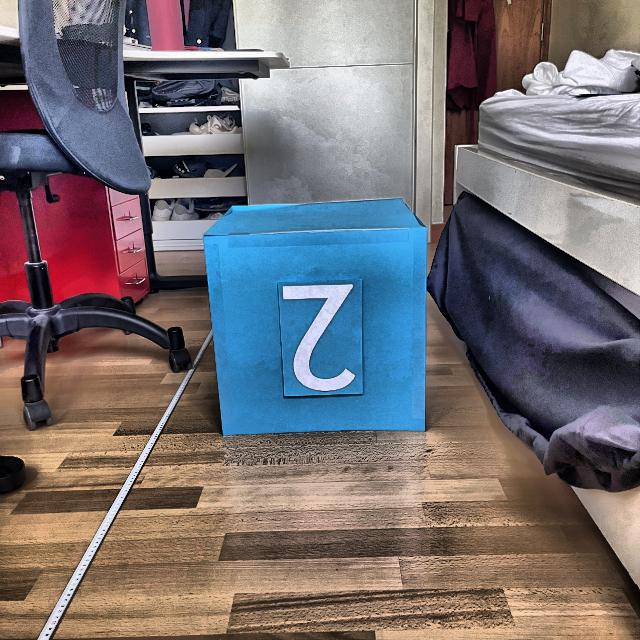blue box: (205, 199, 429, 434)
two: (279, 283, 358, 394)
